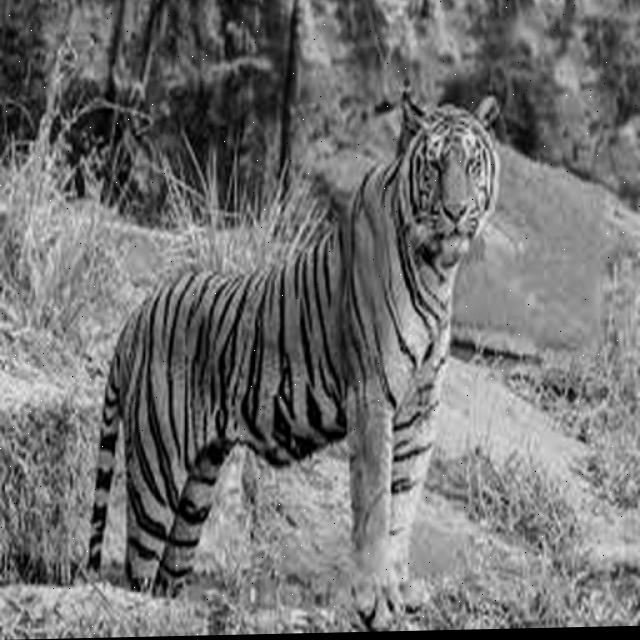Tiger: (84, 78, 502, 637)
